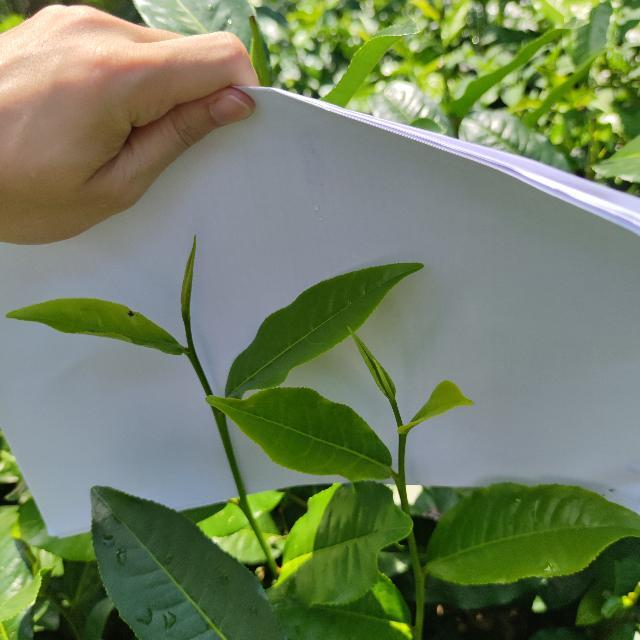Stem: (186, 348, 196, 358), (399, 437, 405, 451)
